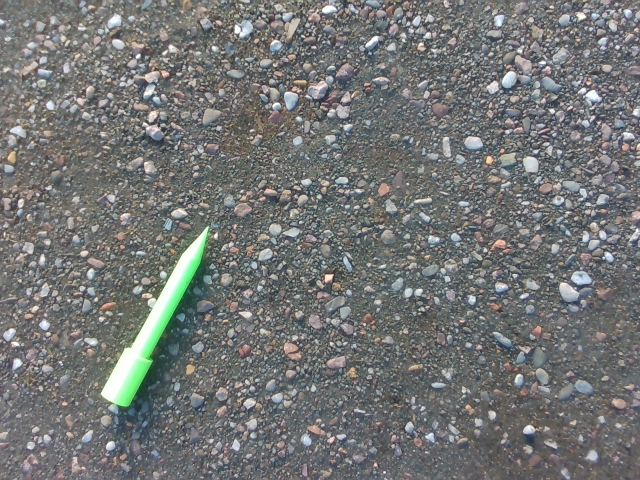Probe: (96, 218, 215, 415)
